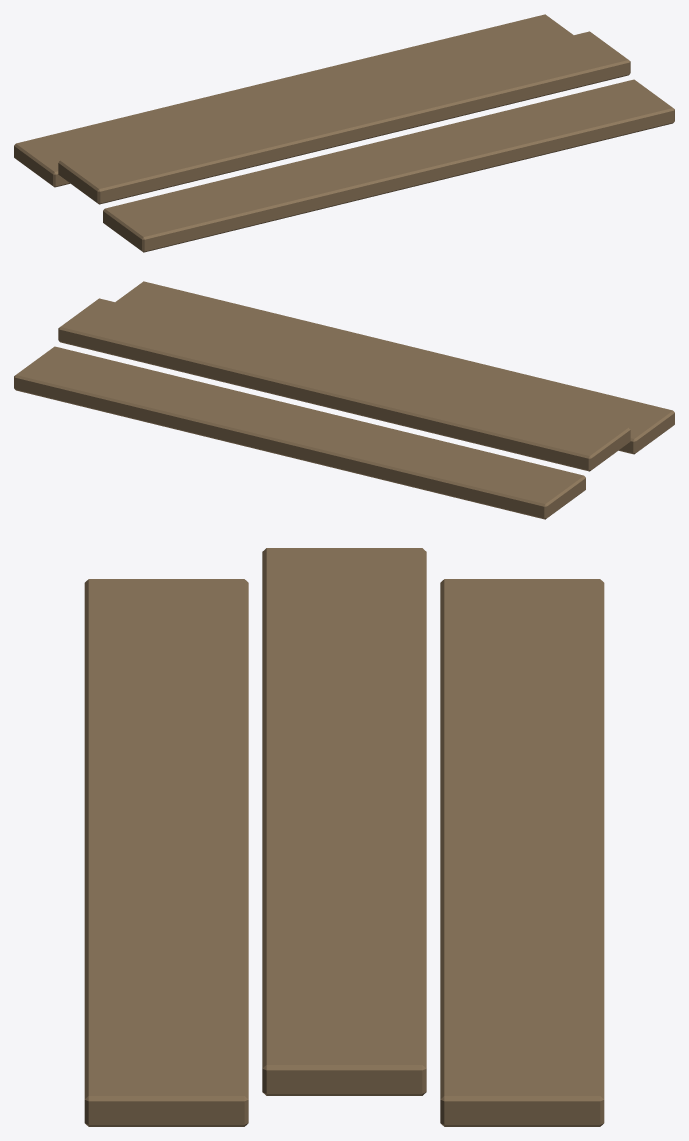
File: planks.glb
3 renders of one model, top to bottom at view 1: azimuth 30°, elevation 25°; view 2: azimuth 150°, elevation 25°; view 3: azimuth 270°, elevation 25°, orthographic. The views are drawn at different scales.
Parts seen in each view (by area): view 1: Item; view 2: Item; view 3: Item.
Boxes of the visible parts, bbox=[...] form: Item: bbox=[14, 14, 674, 252]; Item: bbox=[14, 281, 674, 519]; Item: bbox=[84, 548, 604, 1126].
Size of the model in its own units: 0.9 by 0.05 by 0.38.
